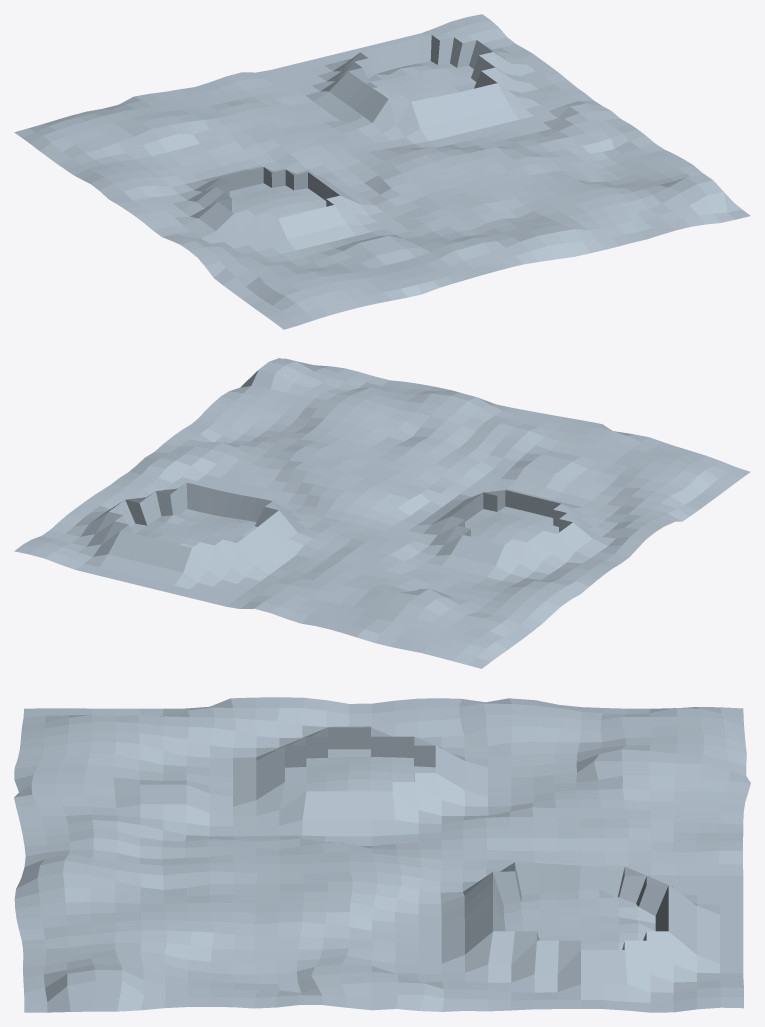
File: moon.gltf
3 renders of one model, top to bottom at view 1: azimuth 30°, elevation 25°; view 2: azimuth 150°, elevation 25°; view 3: azimuth 270°, elevation 25°, orthographic. The views are drawn at different scales.
Visible parts, largest first — view 1: MoonSurface; view 2: MoonSurface; view 3: MoonSurface.
Part boxes in pixels (left/top/right/bottom): MoonSurface: left=14, top=14, right=750, bottom=329; MoonSurface: left=14, top=358, right=750, bottom=668; MoonSurface: left=14, top=697, right=750, bottom=1012.
Bounding box in the file's own units: 20.25 × 1.11 × 20.51.
